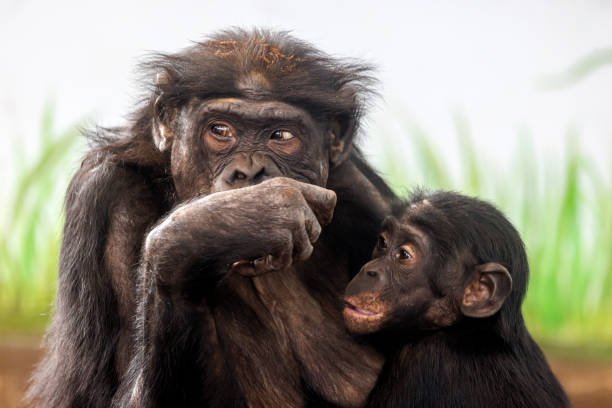chimpanzee: (329, 185, 553, 366)
